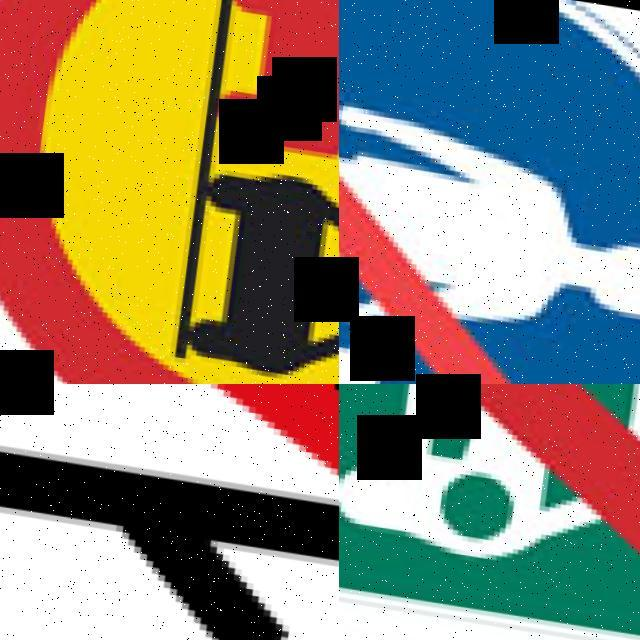112: (339, 0, 640, 384)
34: (0, 0, 339, 384)
74: (339, 384, 640, 640)
Oblique side road junction: (0, 384, 339, 640)
